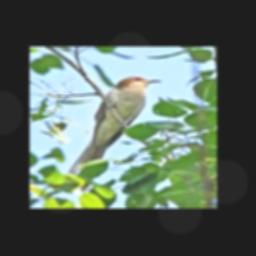Cuckoo: (67, 76, 162, 190)
